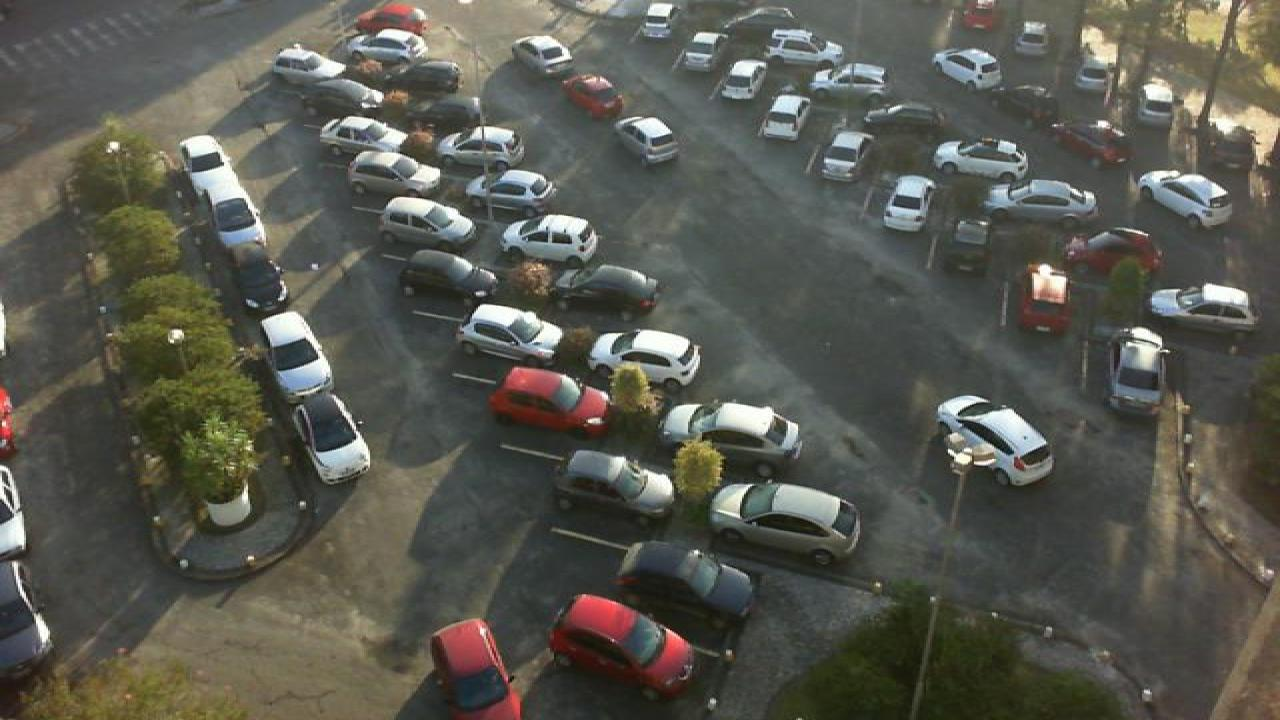Car: (546, 592, 696, 703), (706, 480, 864, 570), (612, 539, 758, 634), (934, 394, 1058, 488), (656, 398, 804, 474), (426, 616, 526, 719), (484, 365, 616, 441), (552, 448, 676, 524), (586, 327, 704, 394), (290, 393, 372, 486), (456, 304, 566, 368), (258, 310, 336, 398), (1134, 170, 1238, 233), (982, 176, 1102, 230), (554, 262, 662, 321), (396, 246, 500, 305), (1148, 282, 1260, 335), (1062, 225, 1166, 282), (498, 213, 602, 269), (224, 229, 292, 314), (378, 195, 478, 251), (1108, 325, 1170, 415), (346, 150, 446, 200), (202, 172, 270, 244), (932, 136, 1030, 185), (312, 112, 414, 158), (1016, 261, 1076, 337), (1048, 117, 1134, 170), (436, 125, 528, 173), (268, 42, 354, 90), (854, 97, 950, 138), (612, 112, 682, 166), (480, 169, 560, 216), (760, 26, 844, 70), (878, 173, 938, 233), (928, 46, 1008, 91), (938, 215, 998, 274), (294, 74, 386, 112), (346, 25, 430, 65), (818, 128, 878, 184), (178, 134, 240, 186), (1206, 119, 1260, 178), (562, 72, 628, 120), (754, 92, 816, 143), (392, 55, 466, 96), (816, 61, 892, 100), (718, 4, 800, 40), (512, 32, 574, 76), (352, 2, 430, 36), (1132, 93, 1182, 138), (758, 58, 816, 96), (716, 60, 766, 102), (1068, 62, 1112, 108), (678, 32, 724, 73), (638, 0, 684, 39), (1010, 18, 1052, 57), (956, 0, 1000, 33)
